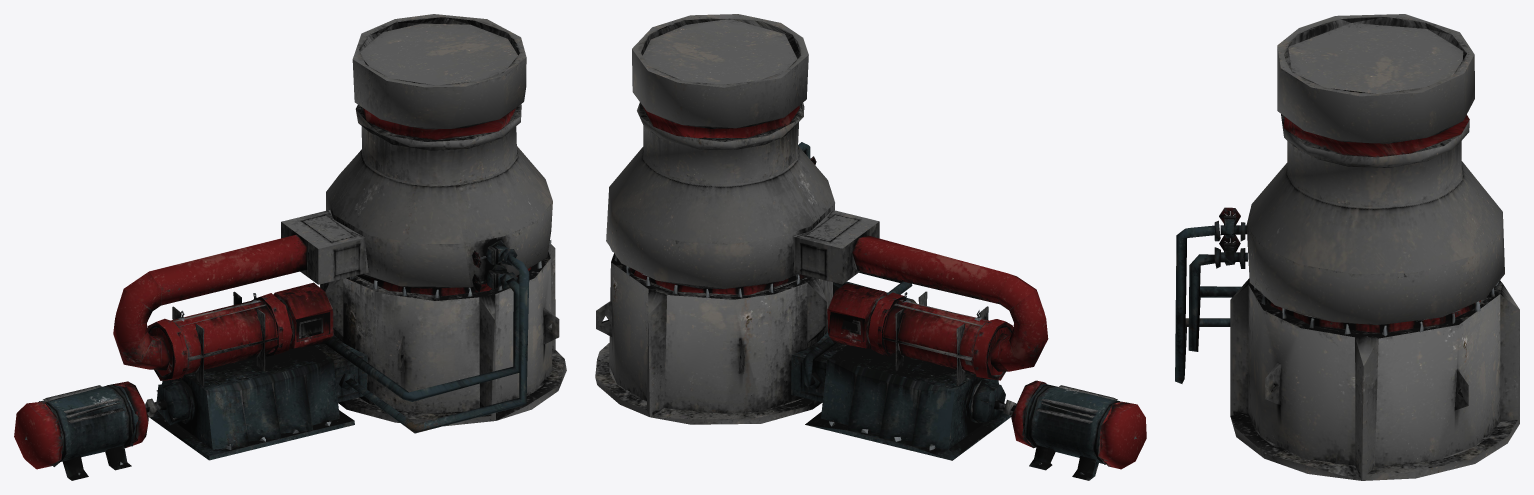
The model's file is binmixer-lp.glb.
3 renders of one model, left to right at view 1: azimuth 30°, elevation 25°; view 2: azimuth 150°, elevation 25°; view 3: azimuth 270°, elevation 25°, orthographic. The views are drawn at different scales.
Parts seen in each view (by area): view 1: Line003; view 2: Line003; view 3: Line003.
Boxes of the visible parts, left/top/right/bottom form: Line003: left=14, top=14, right=566, bottom=480; Line003: left=595, top=14, right=1146, bottom=480; Line003: left=1175, top=14, right=1519, bottom=480.
Bounding box in the file's own units: 3.91 × 2.29 × 1.96.
1 material, 1 textured.
